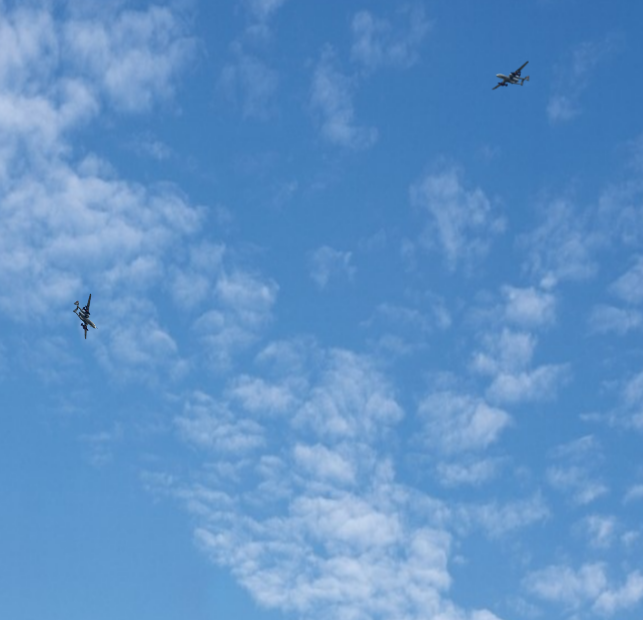military drone: (72, 293, 98, 339), (491, 60, 530, 89)
